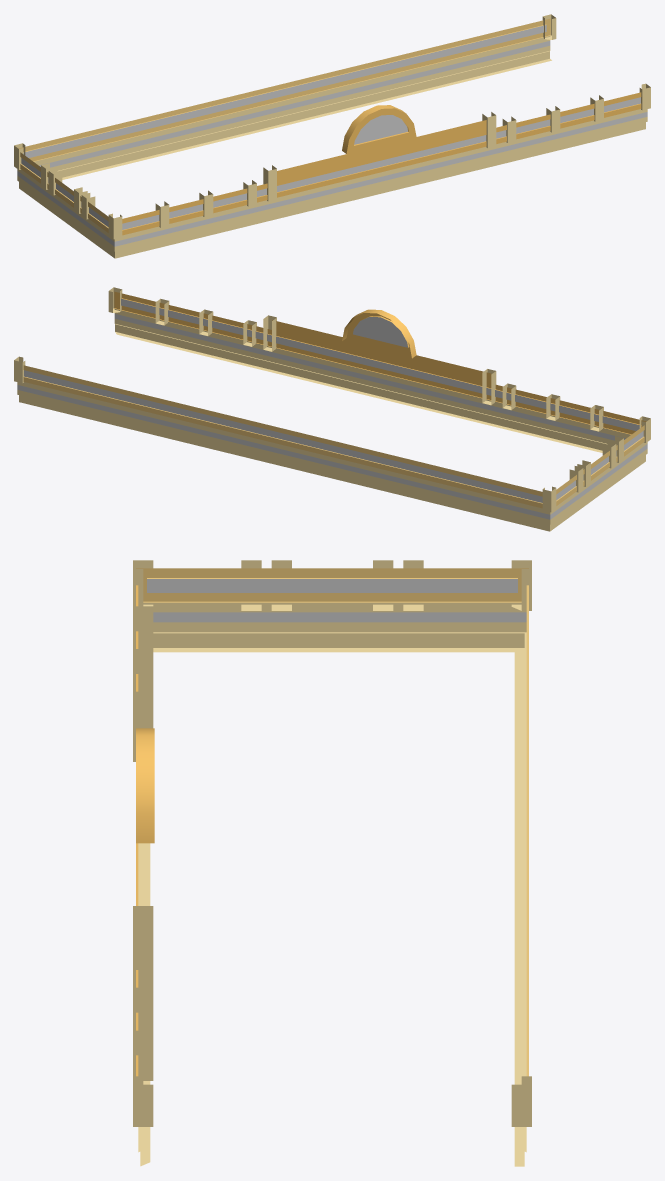
File: BuildingSmall2_3.fbx
The picture shows the model from 3 angles, top to bottom: view 1: azimuth 30°, elevation 25°; view 2: azimuth 150°, elevation 25°; view 3: azimuth 270°, elevation 25°; orthographic projection. The views are drawn at different scales.
Parts seen in each view (by area): view 1: BuildingSmall2_3; view 2: BuildingSmall2_3; view 3: BuildingSmall2_3.
Boxes of the visible parts, left/top/right/bottom form: BuildingSmall2_3: left=14, top=14, right=650, bottom=258; BuildingSmall2_3: left=14, top=287, right=650, bottom=531; BuildingSmall2_3: left=133, top=560, right=531, bottom=1166.
Bounding box in the file's own units: 6130 × 935 × 1970.
